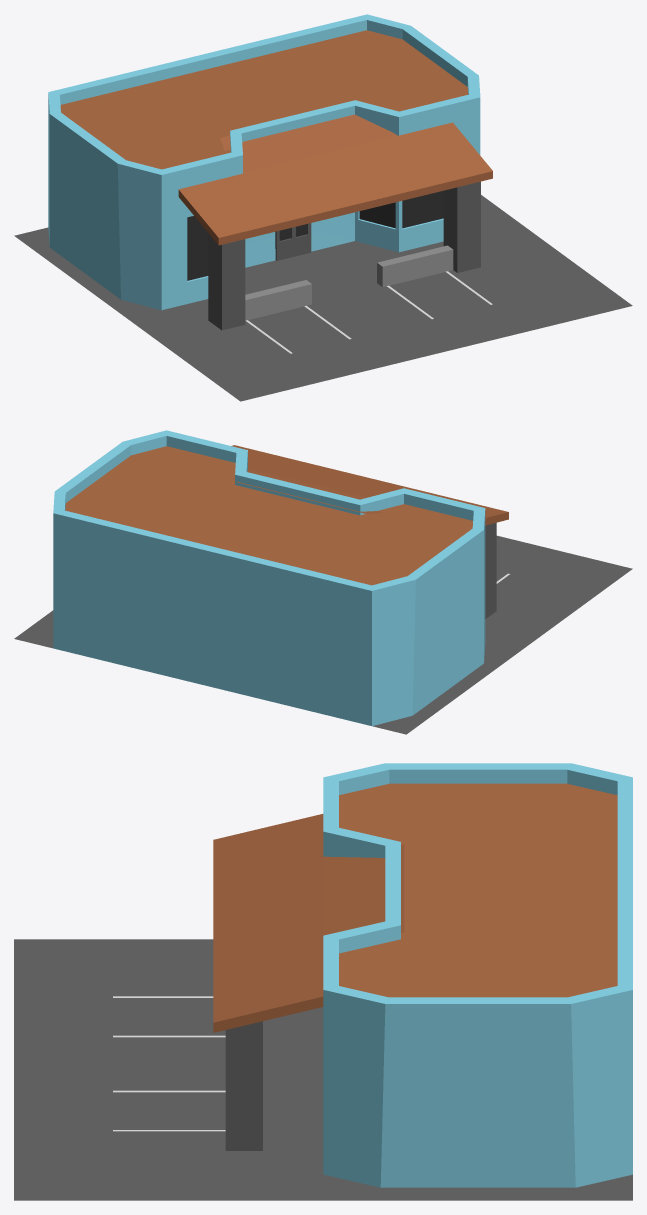
The model's file is shop_01.fbx.
3 renders of one model, top to bottom at view 1: azimuth 30°, elevation 25°; view 2: azimuth 150°, elevation 25°; view 3: azimuth 270°, elevation 25°, orthographic. The views are drawn at different scales.
Parts seen in each view (by area): view 1: shop_01; view 2: shop_01; view 3: shop_01.
Part boxes in pixels (bbox=[...]): shop_01: bbox=[14, 14, 632, 401]; shop_01: bbox=[14, 430, 632, 734]; shop_01: bbox=[14, 763, 632, 1200].
Size of the model in its own units: 20 by 6.59 by 20.
